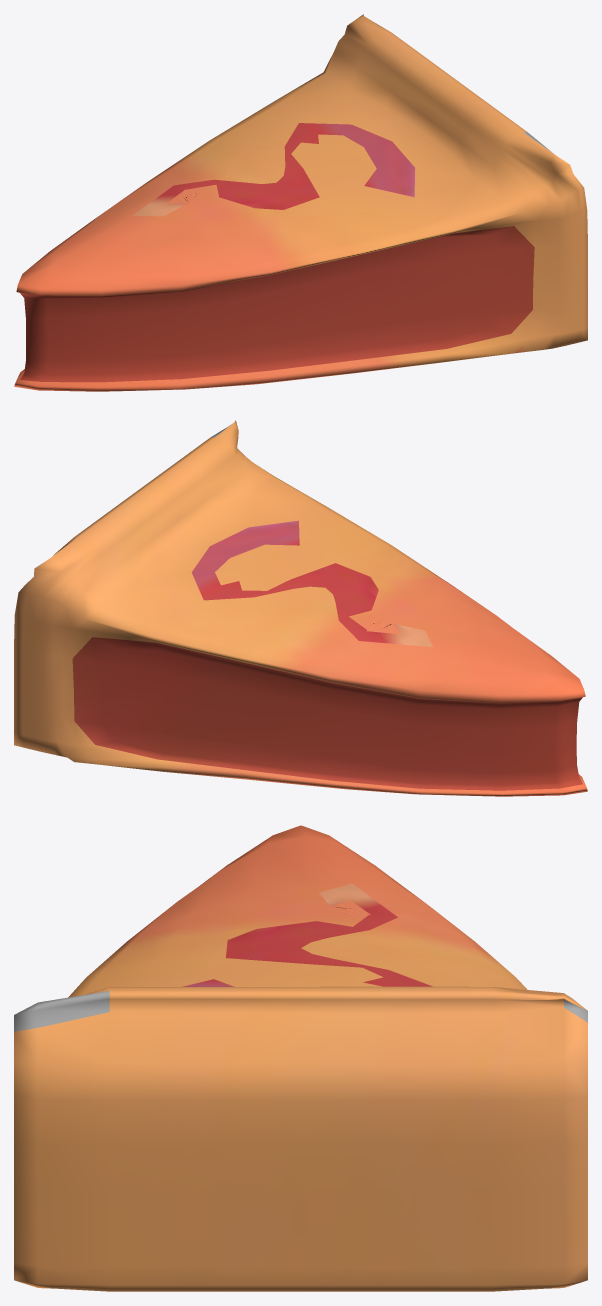
File: pie.fbx
3 views of the same model, one above another, from view 1: azimuth 30°, elevation 25°; view 2: azimuth 150°, elevation 25°; view 3: azimuth 270°, elevation 25° (orthographic). The views are drawn at different scales.
Parts seen in each view (by area): view 1: pCube7; view 2: pCube7; view 3: pCube7.
Part boxes in pixels (x1=…): pCube7: x1=14, y1=14, x2=587, y2=391; pCube7: x1=14, y1=420, x2=587, y2=796; pCube7: x1=14, y1=825, x2=587, y2=1291.
Size of the model in its own units: 0.097 by 0.0386 by 0.0716.
